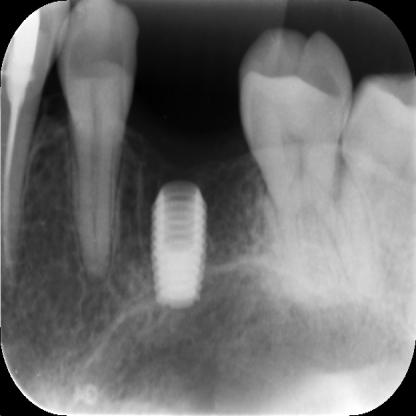Bicon: (144, 176, 215, 312)
